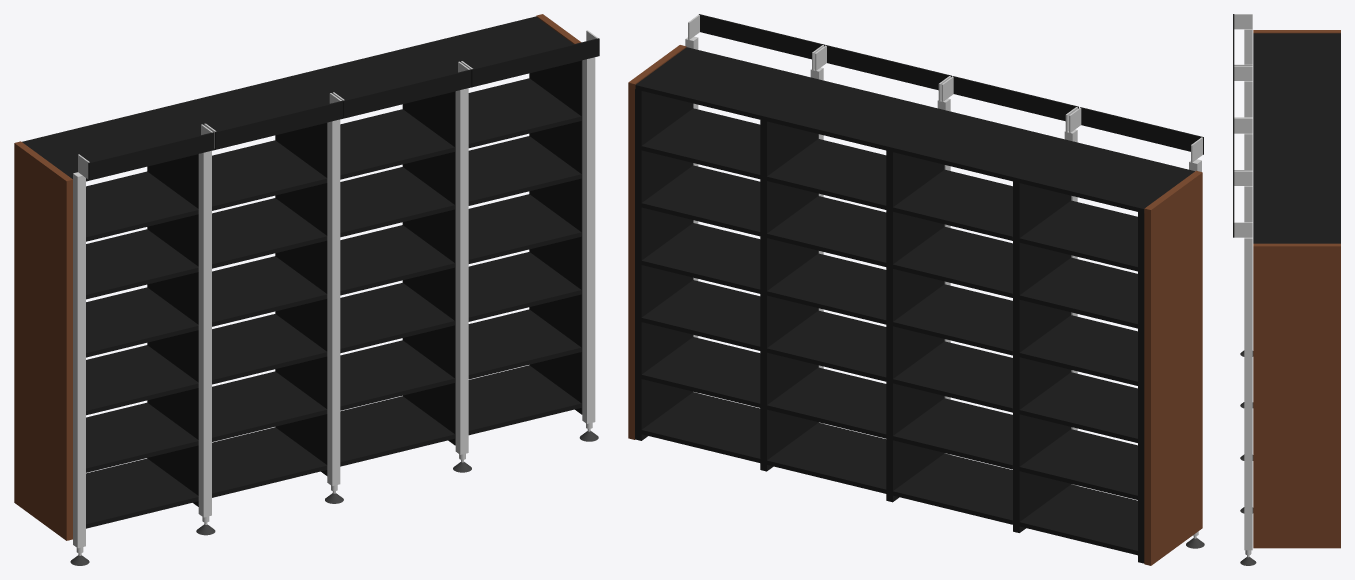
The model's file is new_1estante.fbx.
3 renders of one model, left to right at view 1: azimuth 30°, elevation 25°; view 2: azimuth 150°, elevation 25°; view 3: azimuth 270°, elevation 25°, orthographic. The views are drawn at different scales.
Visible parts, largest first — view 1: Cube.004; view 2: Cube.004; view 3: Cube.004.
Boxes of the visible parts, left/top/right/bottom form: Cube.004: left=14, top=14, right=599, bottom=565; Cube.004: left=628, top=14, right=1204, bottom=565; Cube.004: left=1233, top=14, right=1340, bottom=565.
Bounding box in the file's own units: 307 × 225 × 64.58.
